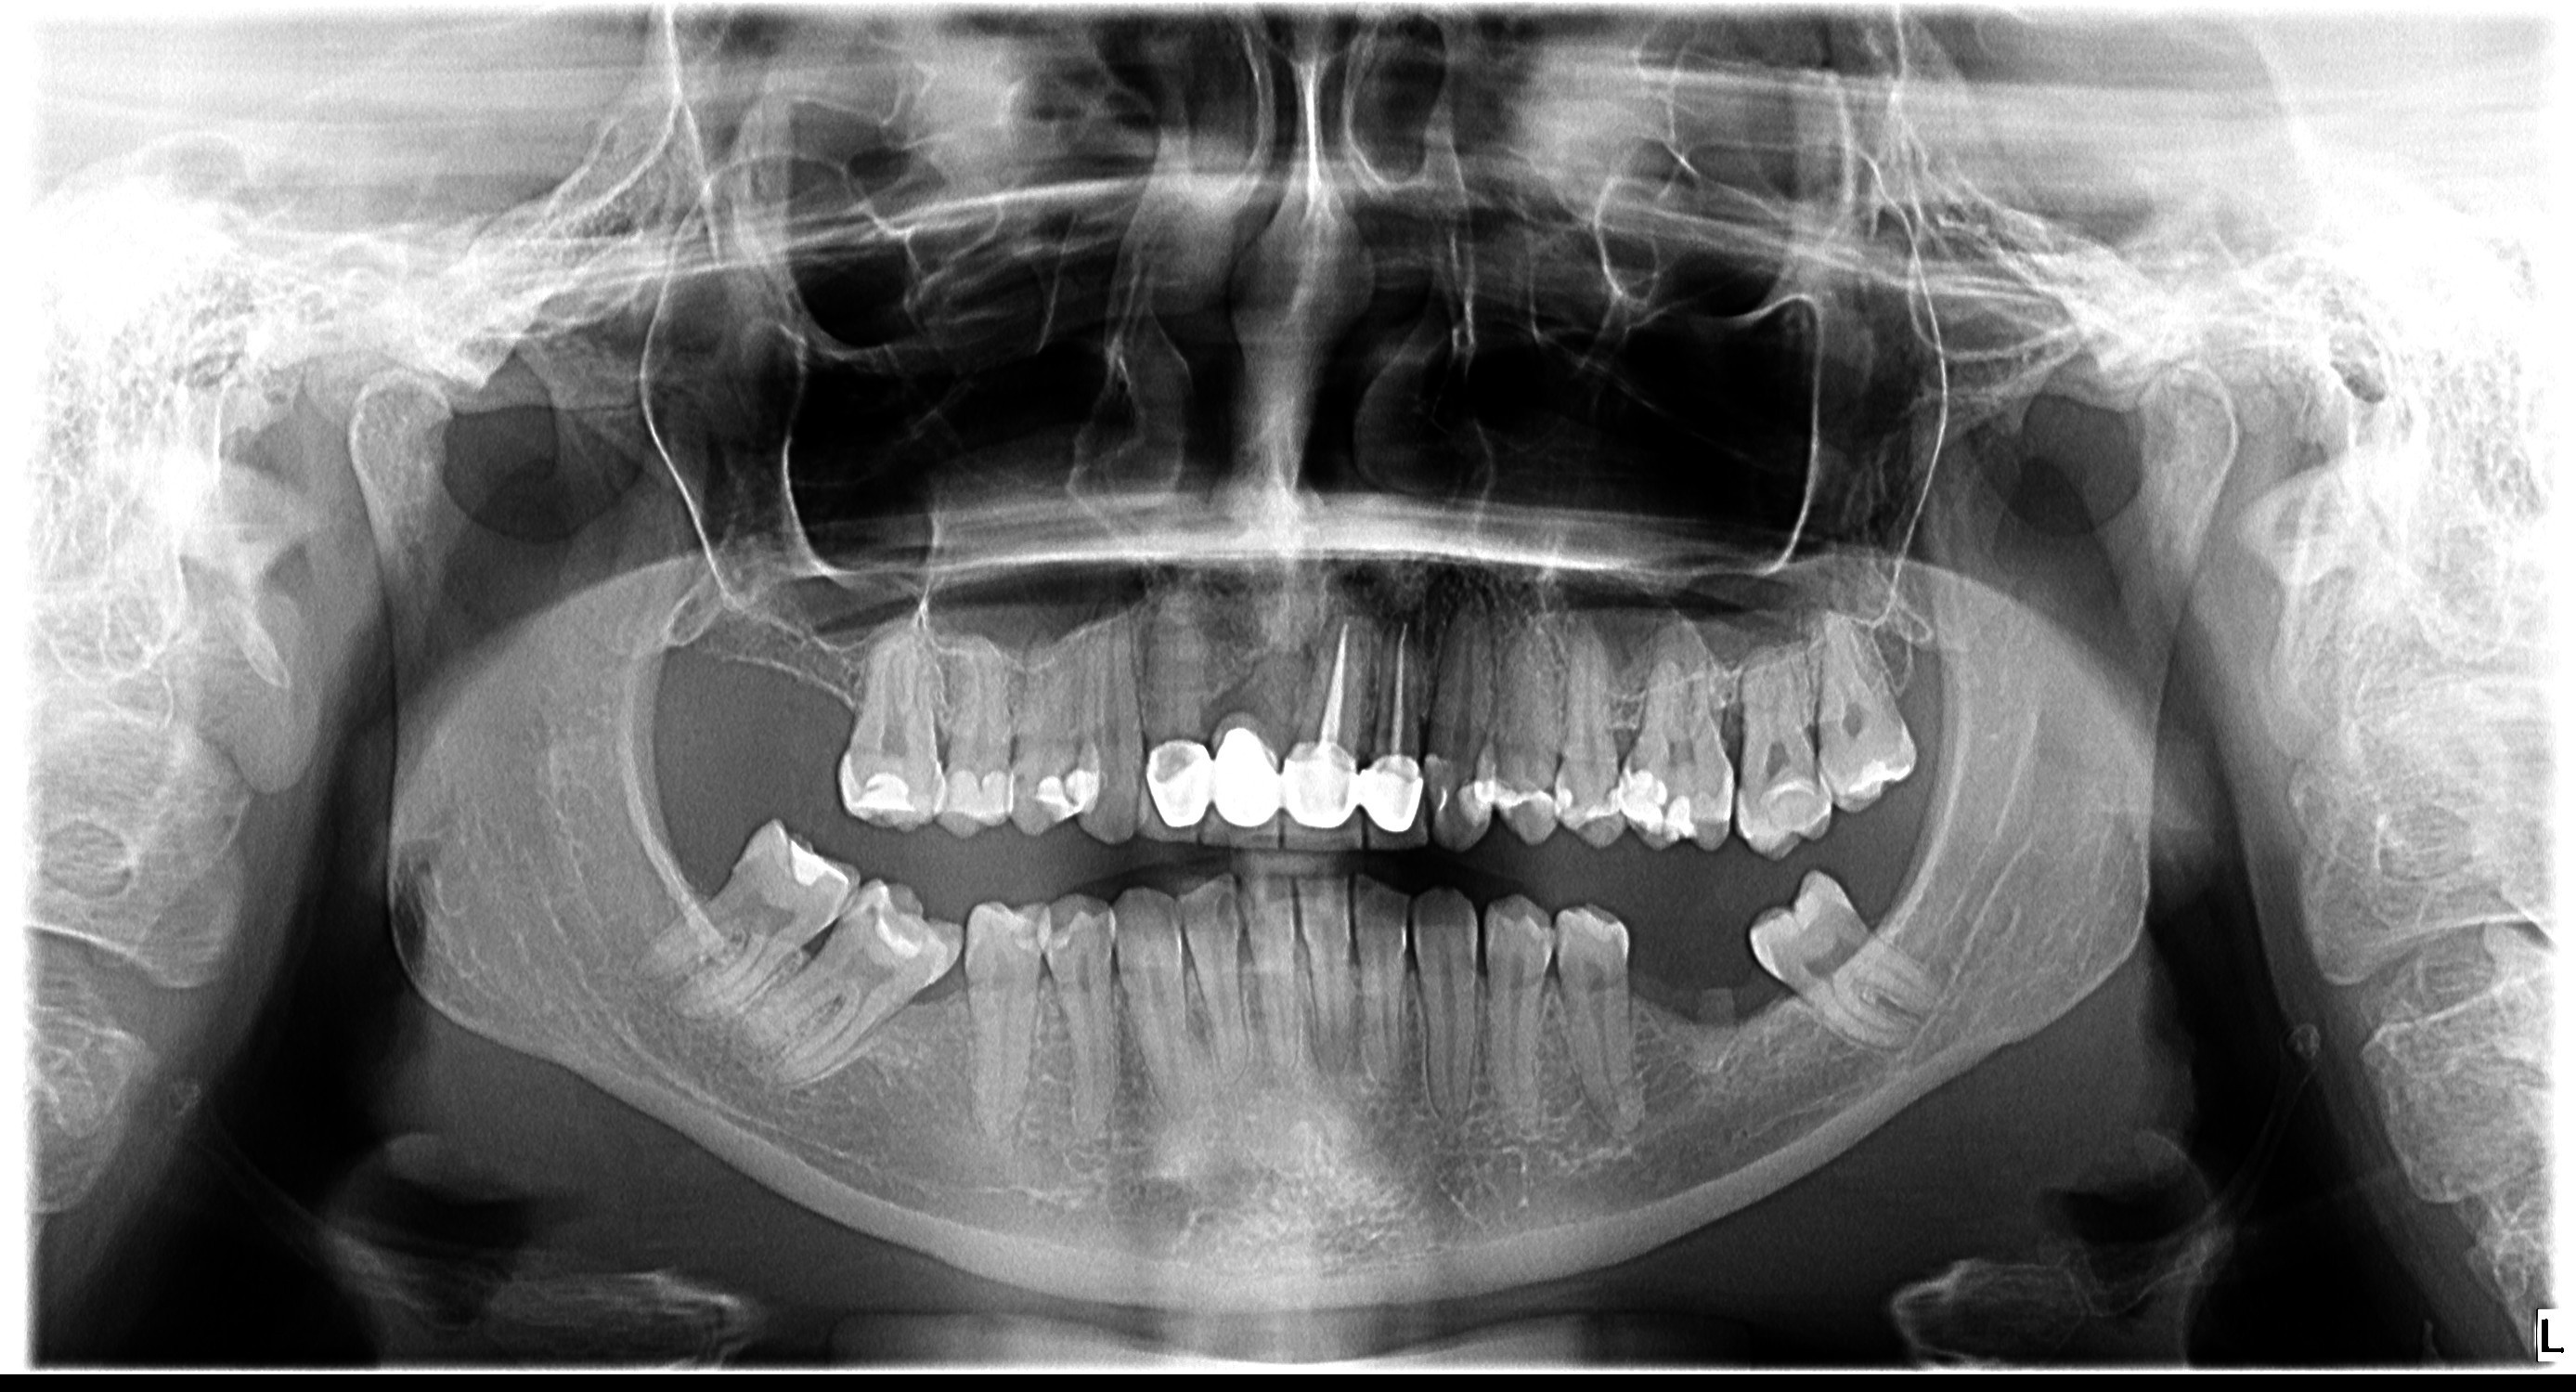CAR: (575, 413, 1821, 1363), (408, 435, 1298, 1368), (391, 434, 1245, 1373)
OBT: (834, 362, 2576, 1200), (767, 345, 2478, 1190), (875, 353, 2576, 1159), (783, 338, 2418, 1169), (757, 358, 2340, 1176), (707, 363, 2240, 1178), (683, 338, 2155, 1149), (493, 444, 1579, 1392), (492, 343, 1595, 1169), (389, 422, 1327, 1389), (423, 346, 1442, 1174), (368, 345, 1300, 1167), (343, 386, 1190, 1279)
PRR: (428, 267, 1855, 1126)
ROT: (795, 432, 2552, 1392)
